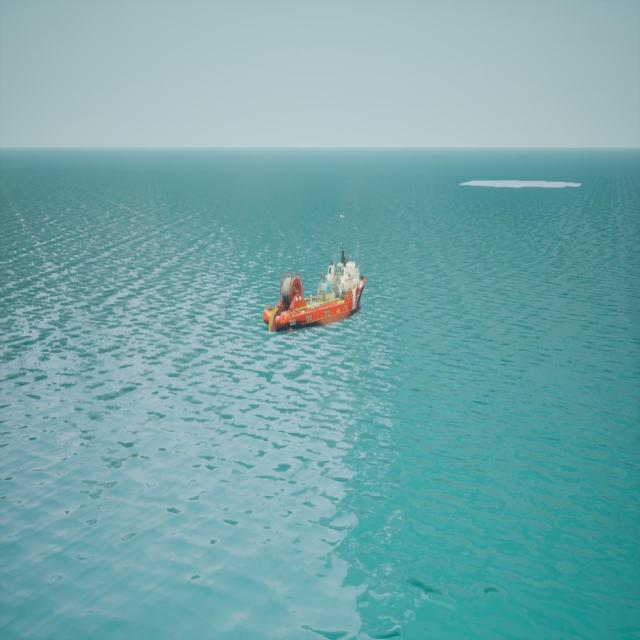tug boat: (264, 216, 368, 338)
